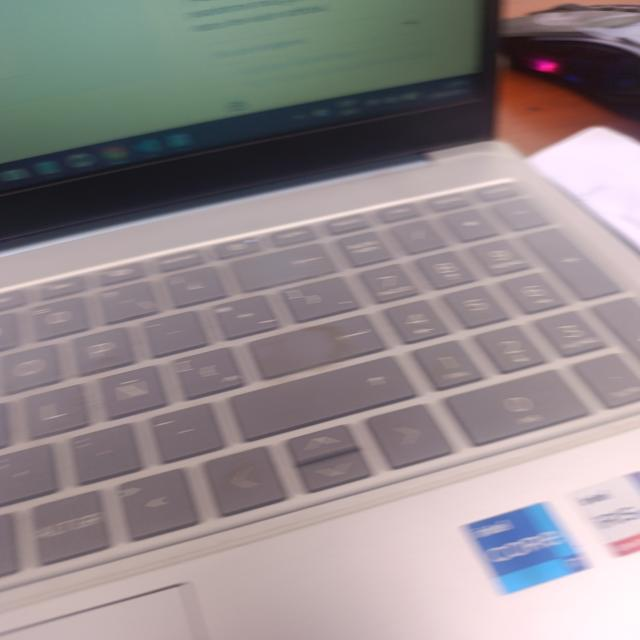Mause: (500, 3, 640, 119)
